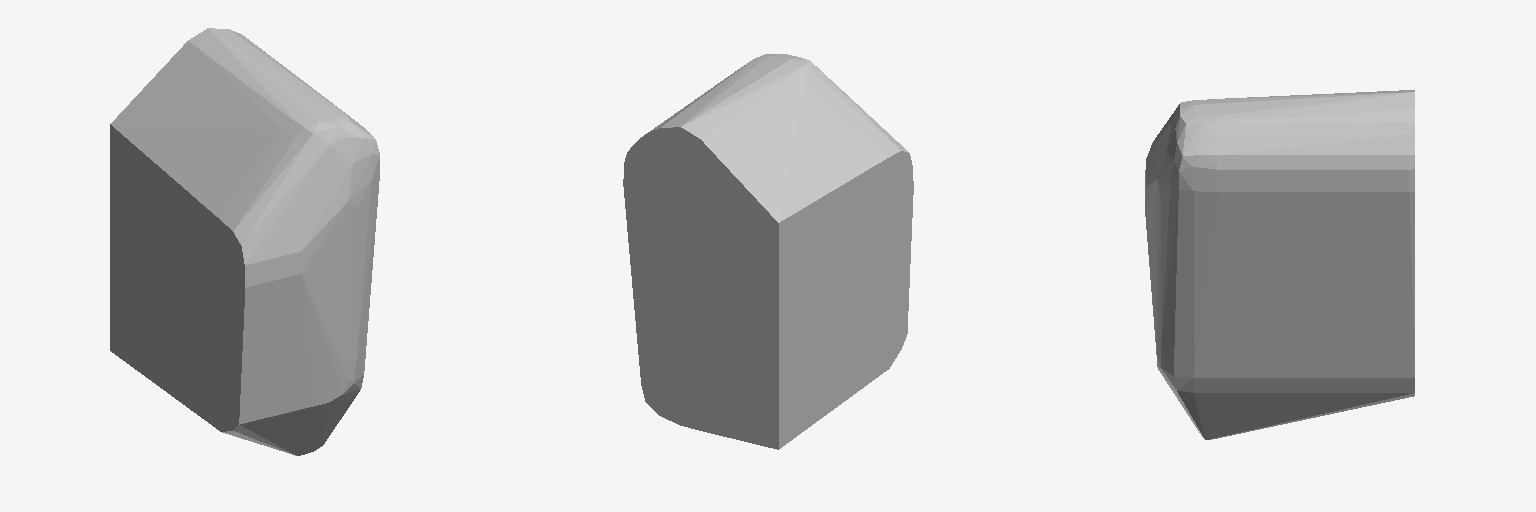
File: sofa_collision_6.obj
3 renders of one model, left to right at view 1: azimuth 30°, elevation 25°; view 2: azimuth 150°, elevation 25°; view 3: azimuth 270°, elevation 25°, orthographic.
Size of the model in its own units: 70.32 by 149 by 105.